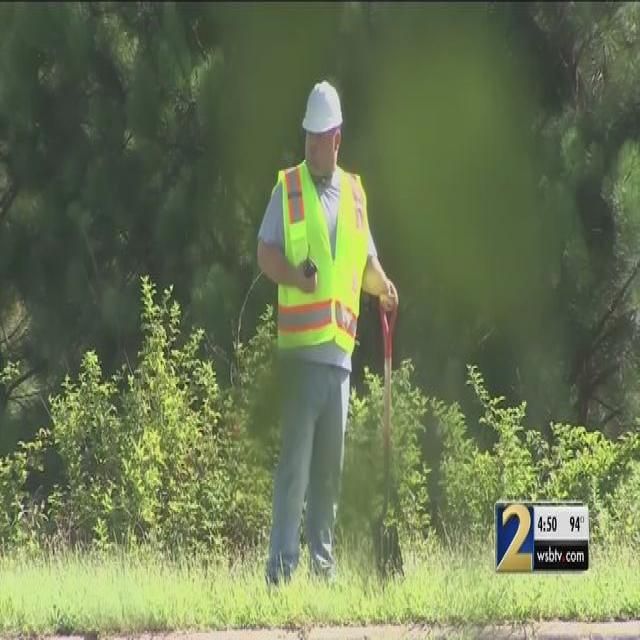Reflective-Jacket: (267, 164, 377, 362)
Safety-Helmet: (298, 74, 346, 138)
